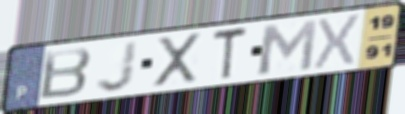B: (37, 46, 94, 102)
J: (93, 39, 140, 94)
M: (256, 18, 320, 77)
T: (211, 25, 250, 83)
X: (311, 12, 364, 71), (152, 31, 204, 90)
